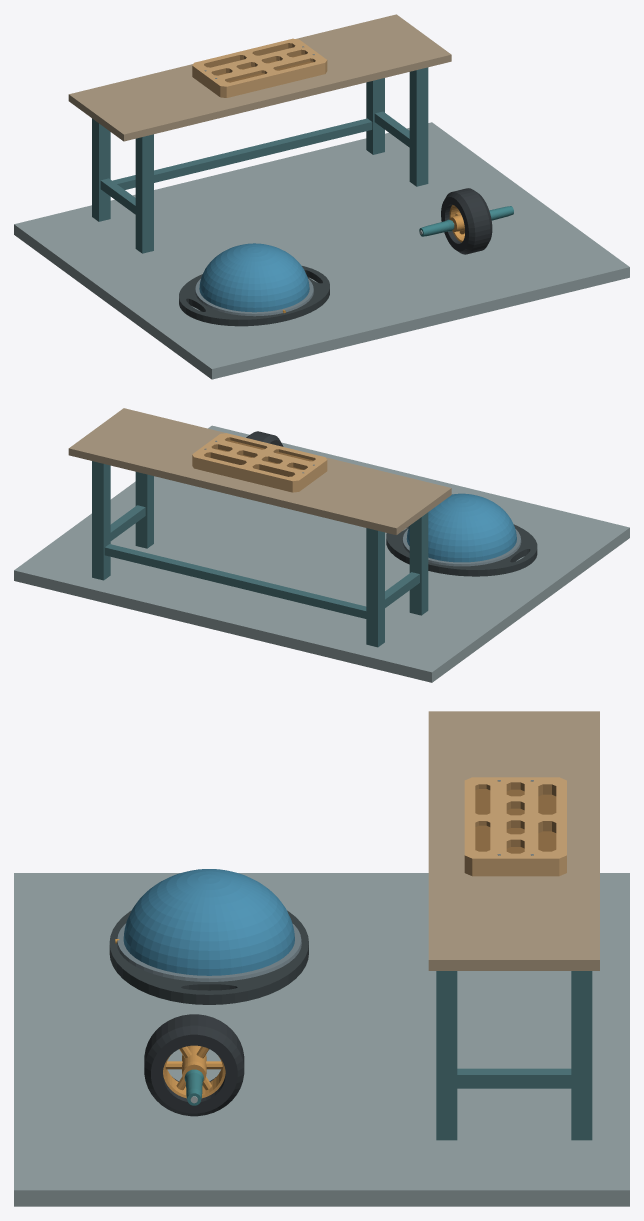
The picture shows the model from 3 angles, top to bottom: view 1: azimuth 30°, elevation 25°; view 2: azimuth 150°, elevation 25°; view 3: azimuth 270°, elevation 25°; orthographic projection. The views are drawn at different scales.
Visible parts, largest first — view 1: SceneWholeFinitePreparationFloor, SceneWholeRearTableTop, CompleteBalancePlatform__WholeClosedLowHalfDome, CompleteHangboard__WholeThreeRowBlindPocketTimberBody, SceneWholeRearLongBrace, CompleteBalancePlatform__WholeOvalBaseWithTwinCarryApertures, SceneWholeRightFrontTableLeg, CompleteAbWheel__WholeWideShoulderedAnnularTread, SceneWholeLeftFrontTableLeg, SceneWholeLeftRearTableLeg, SceneWholeRightRearTableLeg, CompleteBalancePlatform__WholeContinuousRetainingCollar (+2 smaller); view 2: SceneWholeFinitePreparationFloor, SceneWholeRearTableTop, CompleteBalancePlatform__WholeClosedLowHalfDome, CompleteHangboard__WholeThreeRowBlindPocketTimberBody, SceneWholeRearLongBrace, CompleteBalancePlatform__WholeOvalBaseWithTwinCarryApertures, SceneWholeLeftRearTableLeg, SceneWholeRightRearTableLeg, SceneWholeLeftFrontTableLeg, SceneWholeRightFrontTableLeg, CompleteBalancePlatform__WholeContinuousRetainingCollar, SceneWholeRightSideBrace (+1 smaller); view 3: SceneWholeFinitePreparationFloor, SceneWholeRearTableTop, CompleteBalancePlatform__WholeClosedLowHalfDome, CompleteHangboard__WholeThreeRowBlindPocketTimberBody, CompleteAbWheel__WholeWideShoulderedAnnularTread, CompleteBalancePlatform__WholeOvalBaseWithTwinCarryApertures, SceneWholeRightFrontTableLeg, SceneWholeRightRearTableLeg, SceneWholeRightSideBrace, CompleteBalancePlatform__WholeContinuousRetainingCollar.
Boxes of the visible parts, left/top/right/bottom form: SceneWholeFinitePreparationFloor: left=14, top=122, right=629, bottom=379; SceneWholeRearTableTop: left=68, top=14, right=451, bottom=141; CompleteBalancePlatform__WholeClosedLowHalfDome: left=199, top=243, right=309, bottom=312; CompleteHangboard__WholeThreeRowBlindPocketTimberBody: left=192, top=38, right=327, bottom=97; SceneWholeRearLongBrace: left=112, top=118, right=372, bottom=189; CompleteBalancePlatform__WholeOvalBaseWithTwinCarryApertures: left=179, top=266, right=329, bottom=326; SceneWholeRightFrontTableLeg: left=409, top=67, right=428, bottom=186; CompleteAbWheel__WholeWideShoulderedAnnularTread: left=441, top=188, right=492, bottom=254; SceneWholeLeftFrontTableLeg: left=135, top=134, right=153, bottom=253; SceneWholeLeftRearTableLeg: left=92, top=118, right=110, bottom=221; SceneWholeRightRearTableLeg: left=366, top=78, right=384, bottom=154; CompleteBalancePlatform__WholeContinuousRetainingCollar: left=195, top=279, right=313, bottom=316; SceneWholeFinitePreparationFloor: left=14, top=425, right=629, bottom=682; SceneWholeRearTableTop: left=68, top=408, right=451, bottom=535; CompleteBalancePlatform__WholeClosedLowHalfDome: left=406, top=493, right=516, bottom=562; CompleteHangboard__WholeThreeRowBlindPocketTimberBody: left=192, top=433, right=327, bottom=492; SceneWholeRearLongBrace: left=104, top=544, right=366, bottom=618; CompleteBalancePlatform__WholeOvalBaseWithTwinCarryApertures: left=386, top=524, right=537, bottom=576; SceneWholeLeftRearTableLeg: left=366, top=528, right=384, bottom=647; SceneWholeRightRearTableLeg: left=92, top=461, right=110, bottom=580; SceneWholeLeftFrontTableLeg: left=409, top=512, right=428, bottom=615; SceneWholeRightFrontTableLeg: left=135, top=472, right=153, bottom=548; CompleteBalancePlatform__WholeContinuousRetainingCollar: left=402, top=529, right=521, bottom=566; SceneWholeRightSideBrace: left=110, top=505, right=145, bottom=540; SceneWholeFinitePreparationFloor: left=14, top=873, right=629, bottom=1206; SceneWholeRearTableTop: left=428, top=711, right=599, bottom=970; CompleteBalancePlatform__WholeClosedLowHalfDome: left=123, top=869, right=294, bottom=975; CompleteHangboard__WholeThreeRowBlindPocketTimberBody: left=464, top=777, right=566, bottom=876; CompleteAbWheel__WholeWideShoulderedAnnularTread: left=144, top=1014, right=244, bottom=1116; CompleteBalancePlatform__WholeOvalBaseWithTwinCarryApertures: left=109, top=910, right=308, bottom=1004; SceneWholeRightFrontTableLeg: left=436, top=971, right=457, bottom=1140; SceneWholeRightRearTableLeg: left=571, top=971, right=592, bottom=1140; SceneWholeRightSideBrace: left=457, top=1068, right=571, bottom=1088; CompleteBalancePlatform__WholeContinuousRetainingCollar: left=116, top=923, right=301, bottom=981.
Size of the model in its own units: 2.5 by 0.8458 by 2.05.
